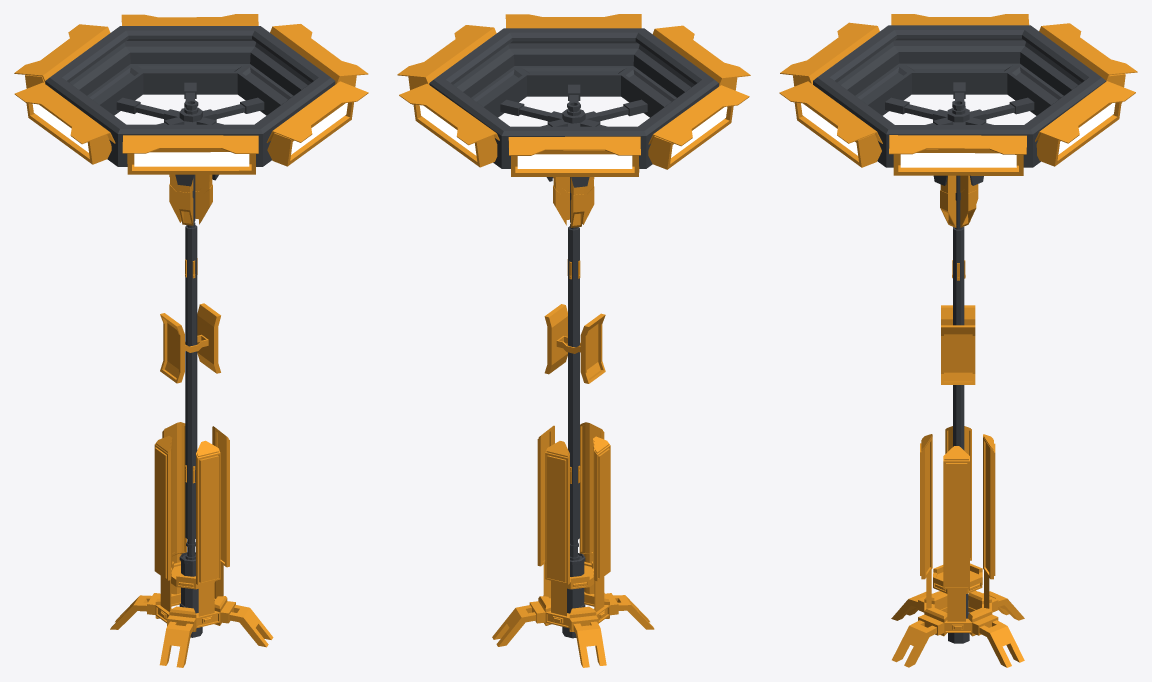
File: SM_Lantern_1.glb
3 views of the same model, side by side, from view 1: azimuth 30°, elevation 25°; view 2: azimuth 150°, elevation 25°; view 3: azimuth 270°, elevation 25° (orthographic).
Parts seen in each view (by area): view 1: SM_Lantern_1; view 2: SM_Lantern_1; view 3: SM_Lantern_1.
Boxes of the visible parts, x1,y1,x2,y2 form: SM_Lantern_1: [14, 14, 368, 667]; SM_Lantern_1: [397, 14, 750, 667]; SM_Lantern_1: [779, 14, 1137, 667].
Bounding box in the file's own units: 8.36 × 15.52 × 8.97.
2 materials, 1 textured.
